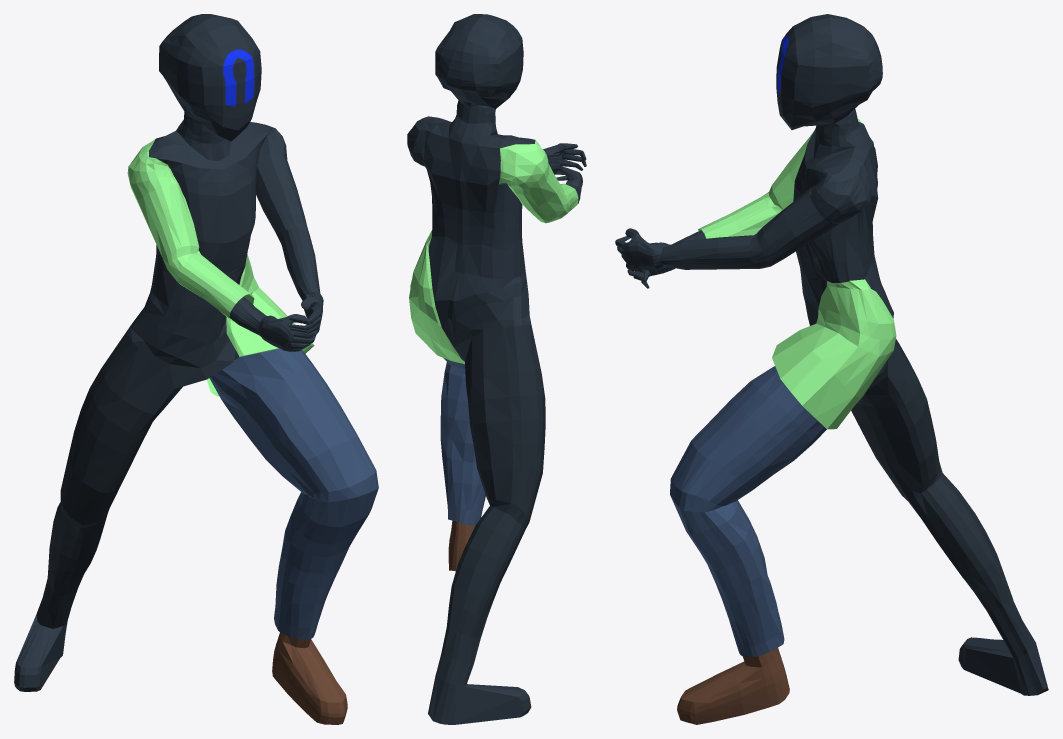
File: Mar_WR_000026.obj
3 views of the same model, side by side, from view 1: azimuth 30°, elevation 25°; view 2: azimuth 150°, elevation 25°; view 3: azimuth 270°, elevation 25° (orthographic). The views are drawn at different scales.
Visible parts, largest first — view 1: Cube.000_Cube.001; view 2: Cube.000_Cube.001; view 3: Cube.000_Cube.001.
Boxes of the visible parts, x1=… form: Cube.000_Cube.001: x1=14, y1=14, x2=378, y2=724; Cube.000_Cube.001: x1=407, y1=14, x2=586, y2=724; Cube.000_Cube.001: x1=615, y1=14, x2=1048, y2=724.
Size of the model in its own units: 1.24 by 3.71 by 2.07.
